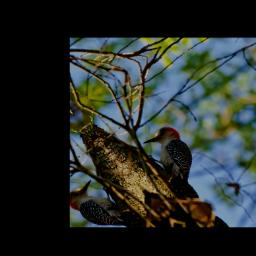Woodpecker: (131, 114, 222, 196)
